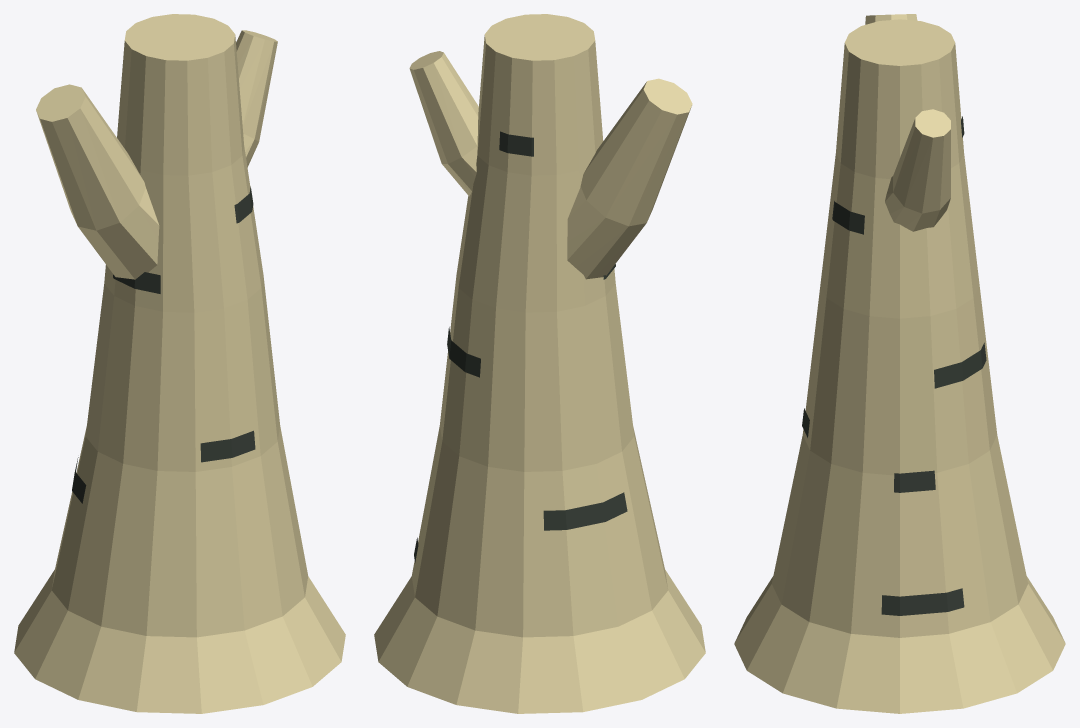
The model's file is AspenTrunk.glb.
3 renders of one model, left to right at view 1: azimuth 30°, elevation 25°; view 2: azimuth 150°, elevation 25°; view 3: azimuth 270°, elevation 25°, orthographic.
Parts seen in each view (by area): view 1: AspenTrunk_AspenBark, AspenTrunk_AspenBarkMarks; view 2: AspenTrunk_AspenBark, AspenTrunk_AspenBarkMarks; view 3: AspenTrunk_AspenBark, AspenTrunk_AspenBarkMarks.
Boxes of the visible parts, bbox=[...] form: AspenTrunk_AspenBark: bbox=[14, 14, 345, 713]; AspenTrunk_AspenBarkMarks: bbox=[72, 186, 255, 503]; AspenTrunk_AspenBark: bbox=[374, 14, 705, 713]; AspenTrunk_AspenBarkMarks: bbox=[414, 131, 627, 562]; AspenTrunk_AspenBark: bbox=[734, 14, 1065, 713]; AspenTrunk_AspenBarkMarks: bbox=[802, 116, 986, 615].
Bounding box in the file's own units: 1.5 × 3 × 1.5.
